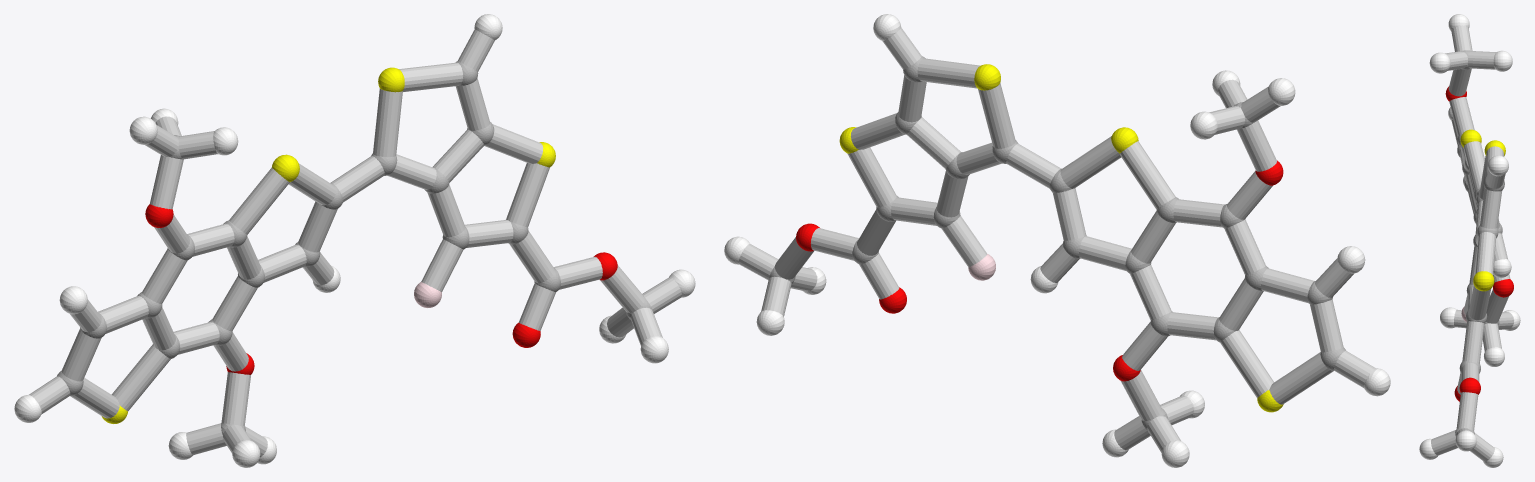
Rendered from color.glb.
3 renders of one model, left to right at view 1: azimuth 30°, elevation 25°; view 2: azimuth 150°, elevation 25°; view 3: azimuth 270°, elevation 25°, orthographic. The views are drawn at different scales.
Visible parts, largest first — view 1: grp15205, grp8689, grp1, grp13395, grp7241; view 2: grp15205, grp8689, grp1, grp7241, grp13395; view 3: grp15205, grp8689, grp1, grp7241, grp13395.
Part boxes in pixels (left/top/right/bottom): grp15205: left=29, top=29, right=681, bottom=457; grp8689: left=14, top=14, right=695, bottom=467; grp1: left=57, top=61, right=651, bottom=434; grp13395: left=145, top=204, right=617, bottom=374; grp7241: left=101, top=67, right=555, bottom=423; grp15205: left=738, top=27, right=1375, bottom=452; grp8689: left=724, top=14, right=1390, bottom=467; grp1: left=769, top=56, right=1345, bottom=430; grp7241: left=839, top=64, right=1283, bottom=412; grp13395: left=796, top=160, right=1283, bottom=381; grp15205: left=1431, top=25, right=1514, bottom=461; grp8689: left=1419, top=14, right=1520, bottom=467; grp1: left=1455, top=50, right=1504, bottom=435; grp7241: left=1460, top=129, right=1505, bottom=291; grp13395: left=1445, top=86, right=1513, bottom=401.
Bounding box in the file's own units: 16.48 × 9.3 × 2.85.
